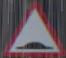Speed Breaker ahead: (9, 6, 60, 55)
